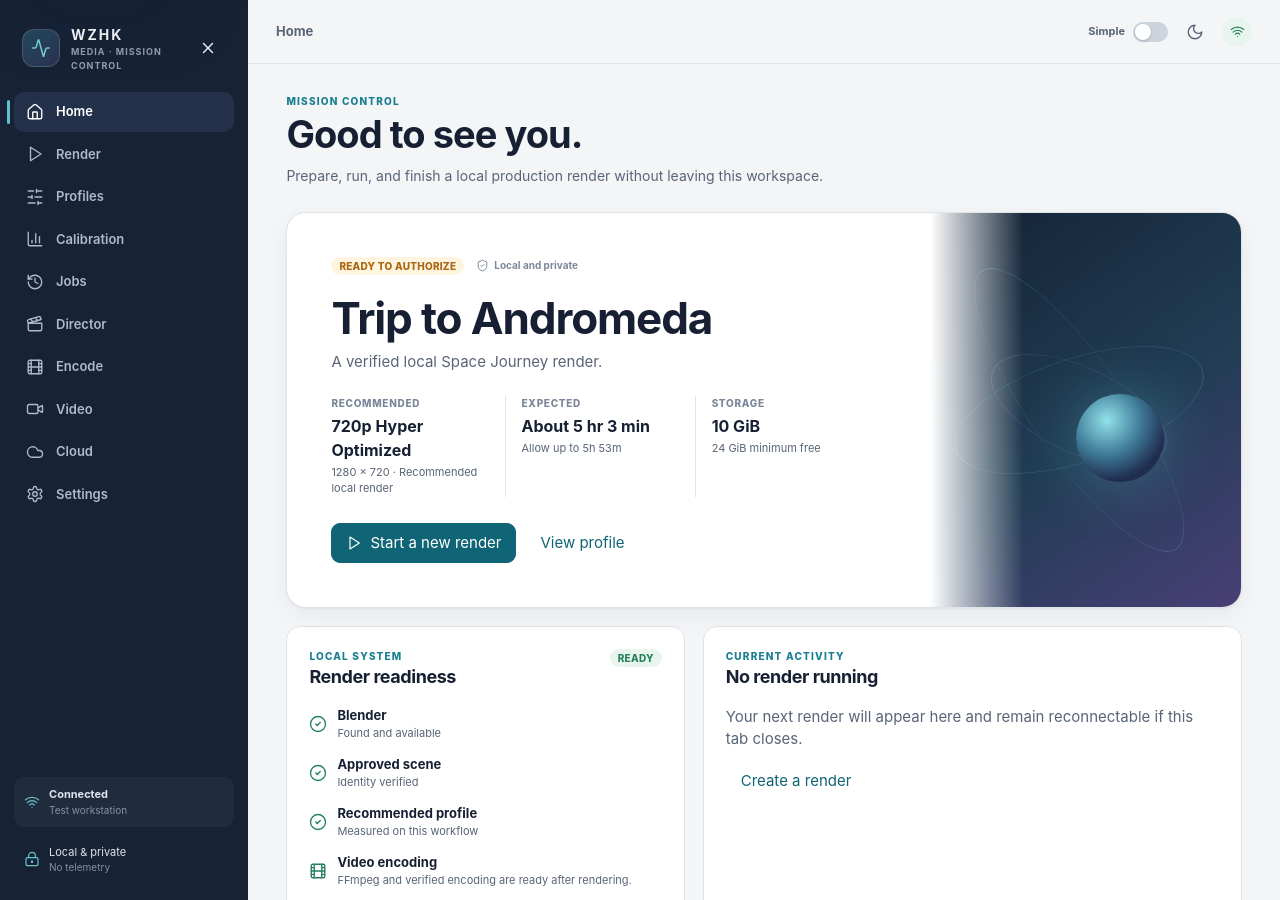
Scenario: MissionControlApp › answers readiness, recommendation, time, storage, and authorization without exposing hashes
This screenshot has width=1280, height=900.
Expected: the heading "Trip to Andromeda" is shown, [331, 291, 712, 345]
Expected: the text "720p Hyper Optimized" is shown, [331, 416, 423, 460]
Click the button "Start a new render".
click(424, 543)  # box [331, 523, 516, 563]
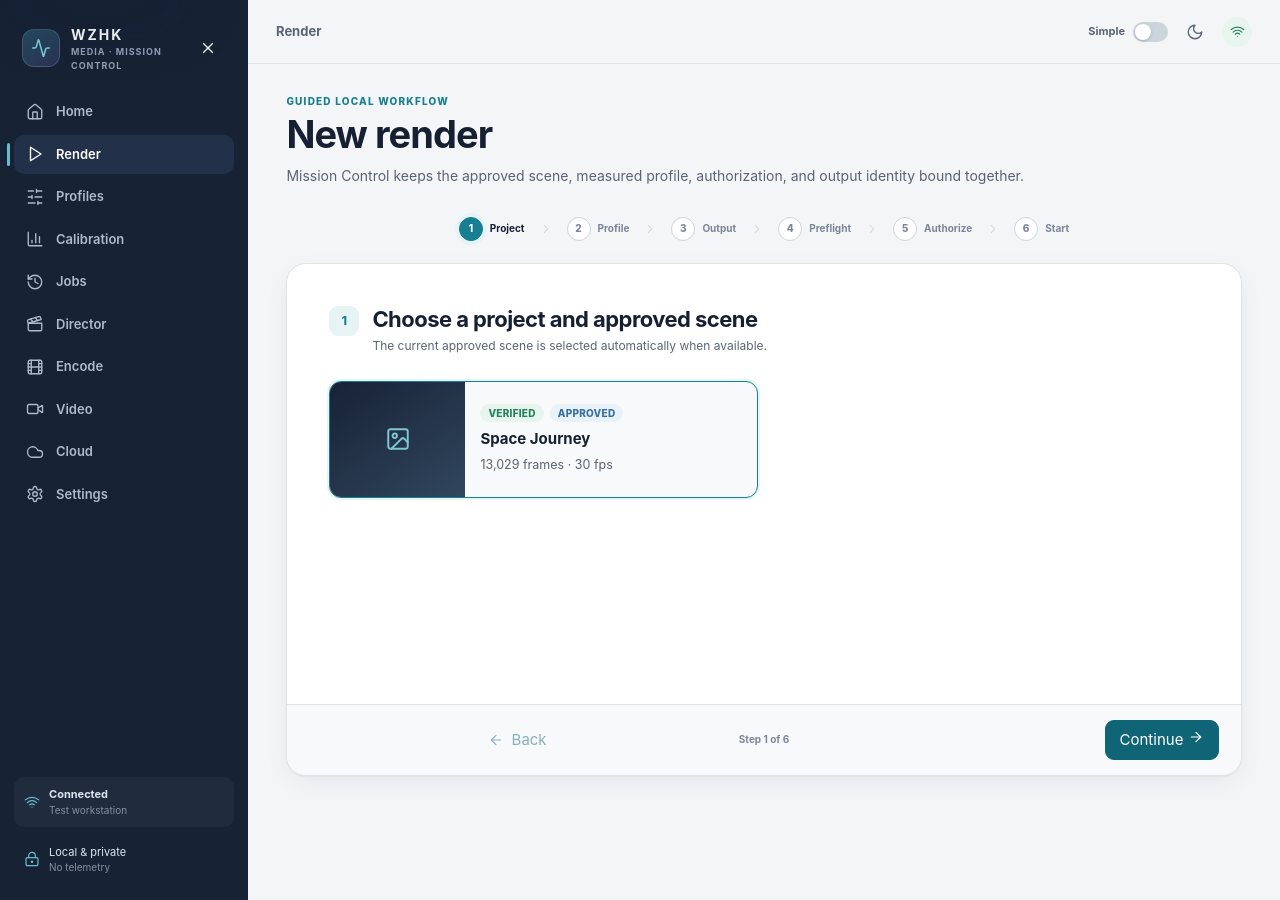
Expected: the heading "New render" is shown, [286, 111, 492, 157]
Expected: the navigation bar named "new render progress" is shown, [454, 212, 1074, 246]
